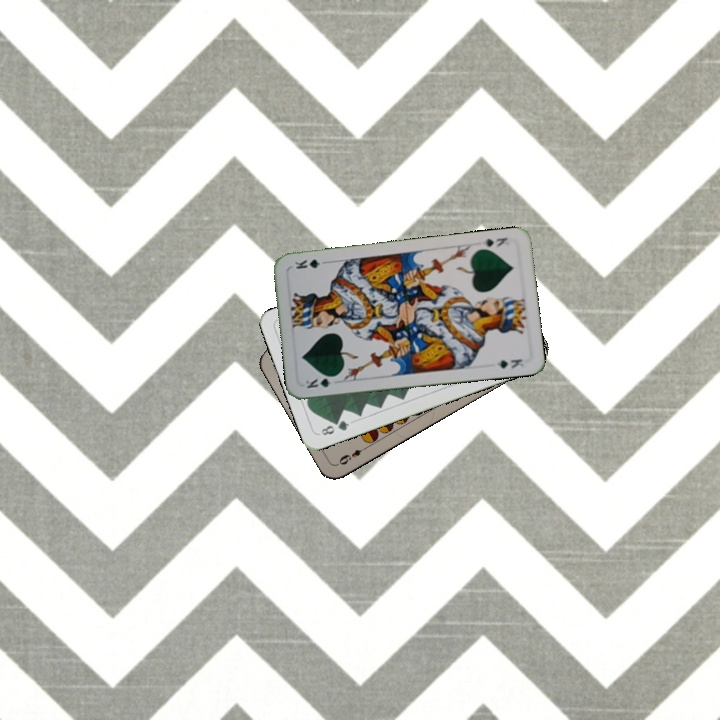E9: (335, 442, 371, 468)
G8: (317, 416, 352, 438)
GK: (300, 372, 341, 391), (478, 233, 515, 250)
